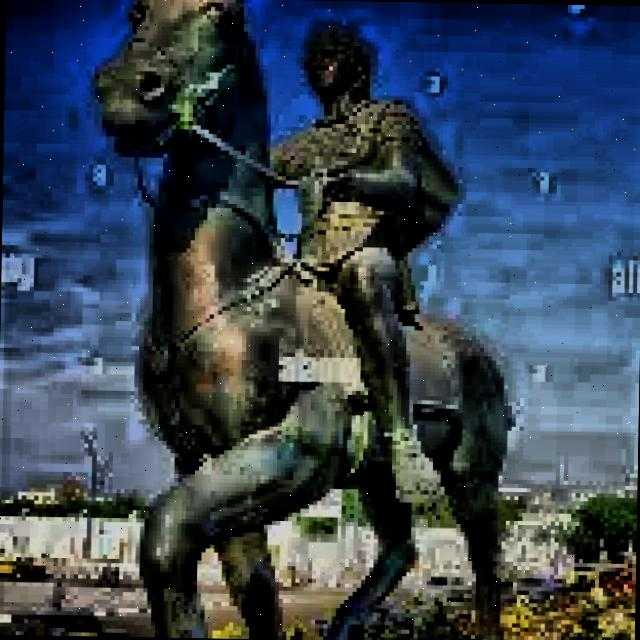alexander the great monument: (9, 0, 581, 627)
